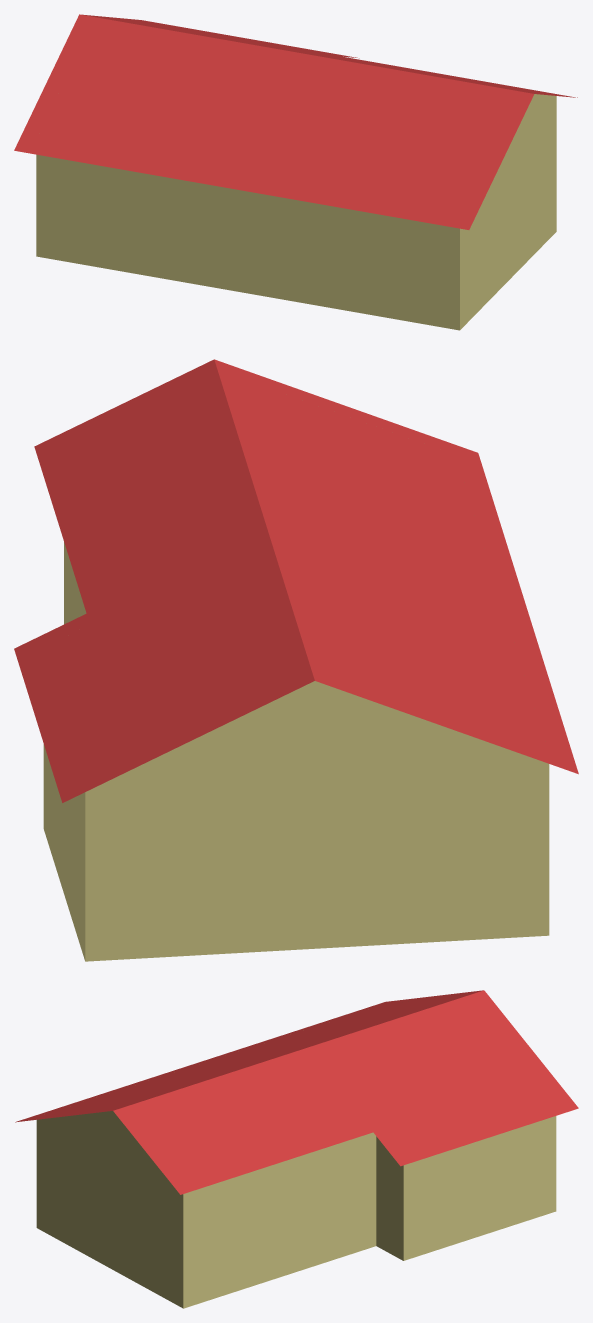
3 renders of one model, top to bottom at view 1: azimuth 30°, elevation 25°; view 2: azimuth 150°, elevation 25°; view 3: azimuth 270°, elevation 25°, orthographic. The views are drawn at different scales.
Bounding box in the file's own units: 30.96 × 34.85 × 11.6.
